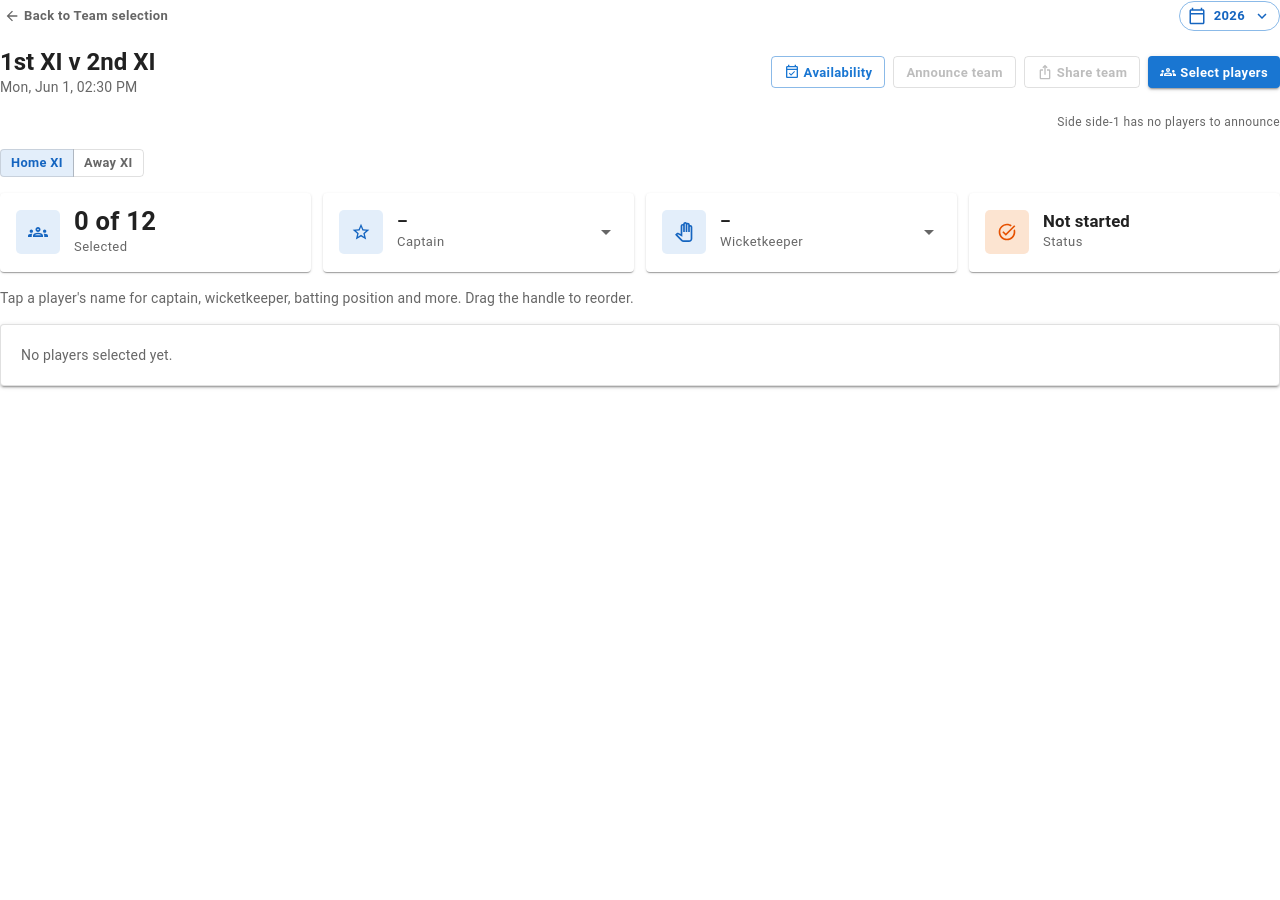
Test case: SelectTeamPage › From previous match (Select players dialog) › shows only the players of the chosen match, in its batting order, from the whole-section pool
Expected: the heading "1st XI v 2nd XI" is shown, top-left (0, 48), bottom-right (156, 77)
Click the button "Select players".
click(1214, 72)  # box top-left (1148, 56), bottom-right (1279, 88)
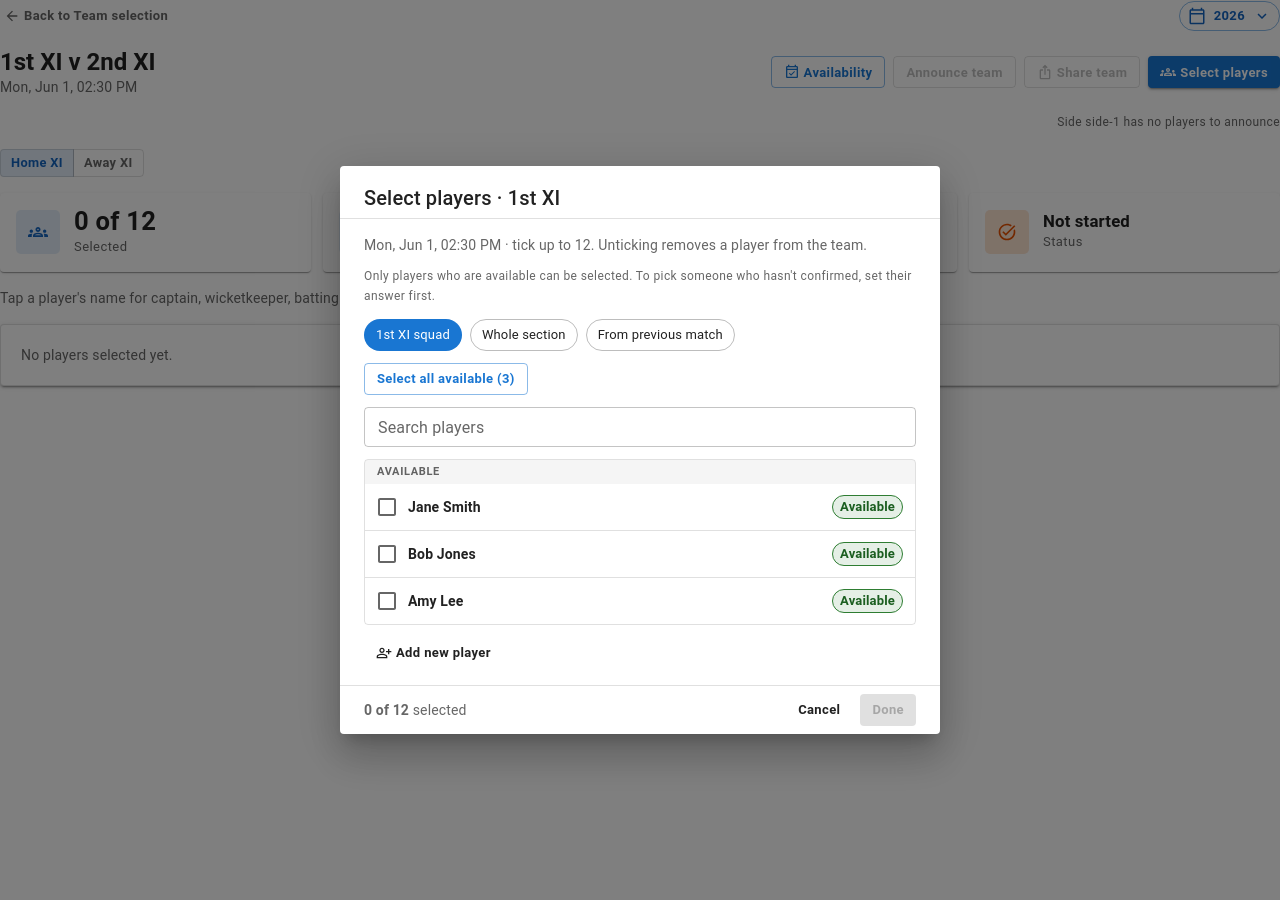
Click the button "From previous match".
click(660, 335)  # box top-left (586, 319), bottom-right (735, 351)
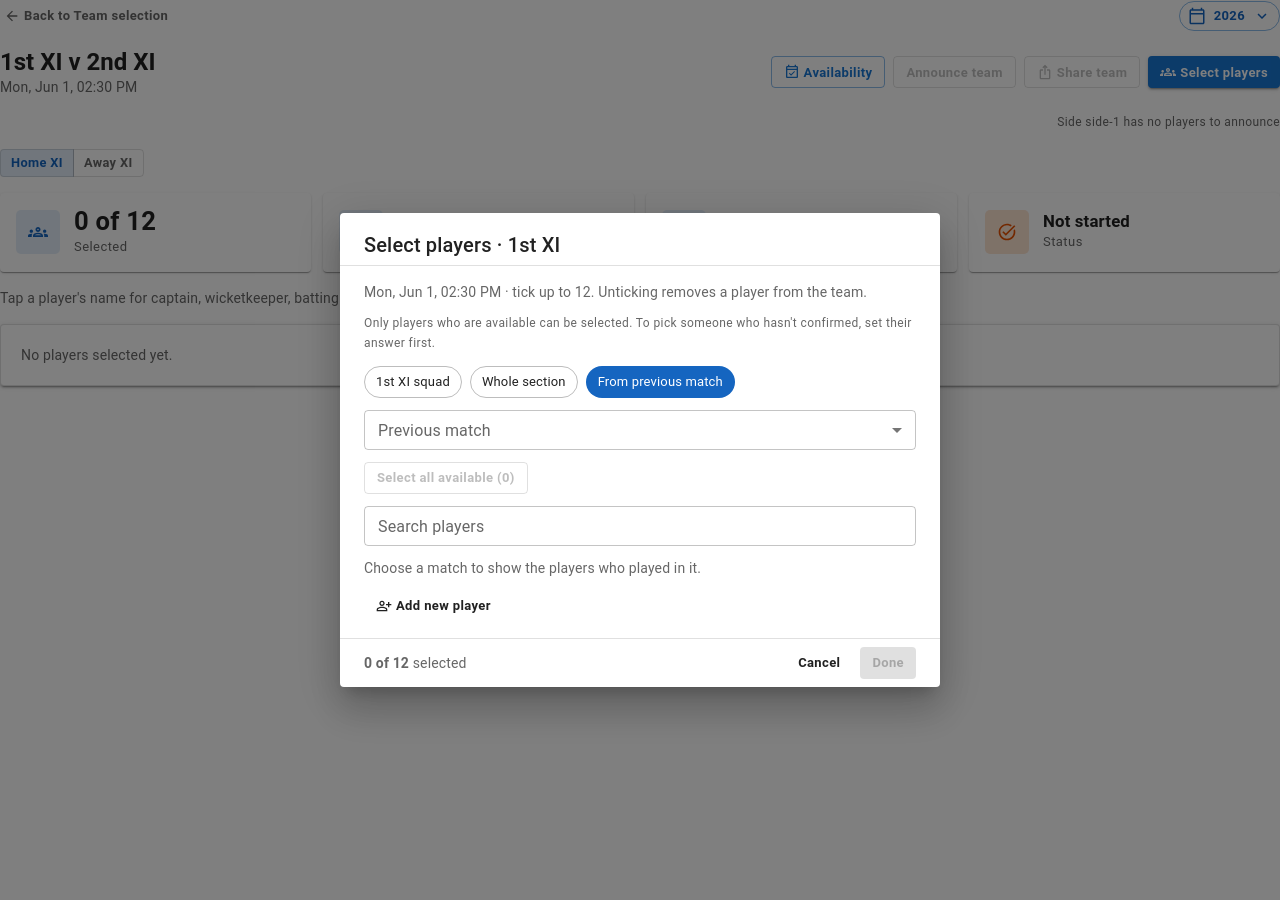
Expected: the text "Choose a match to show the players who played in it." is shown, top-left (364, 560), bottom-right (701, 576)
Click the dropdown named "Previous match".
click(640, 430)  # box top-left (364, 410), bottom-right (916, 450)
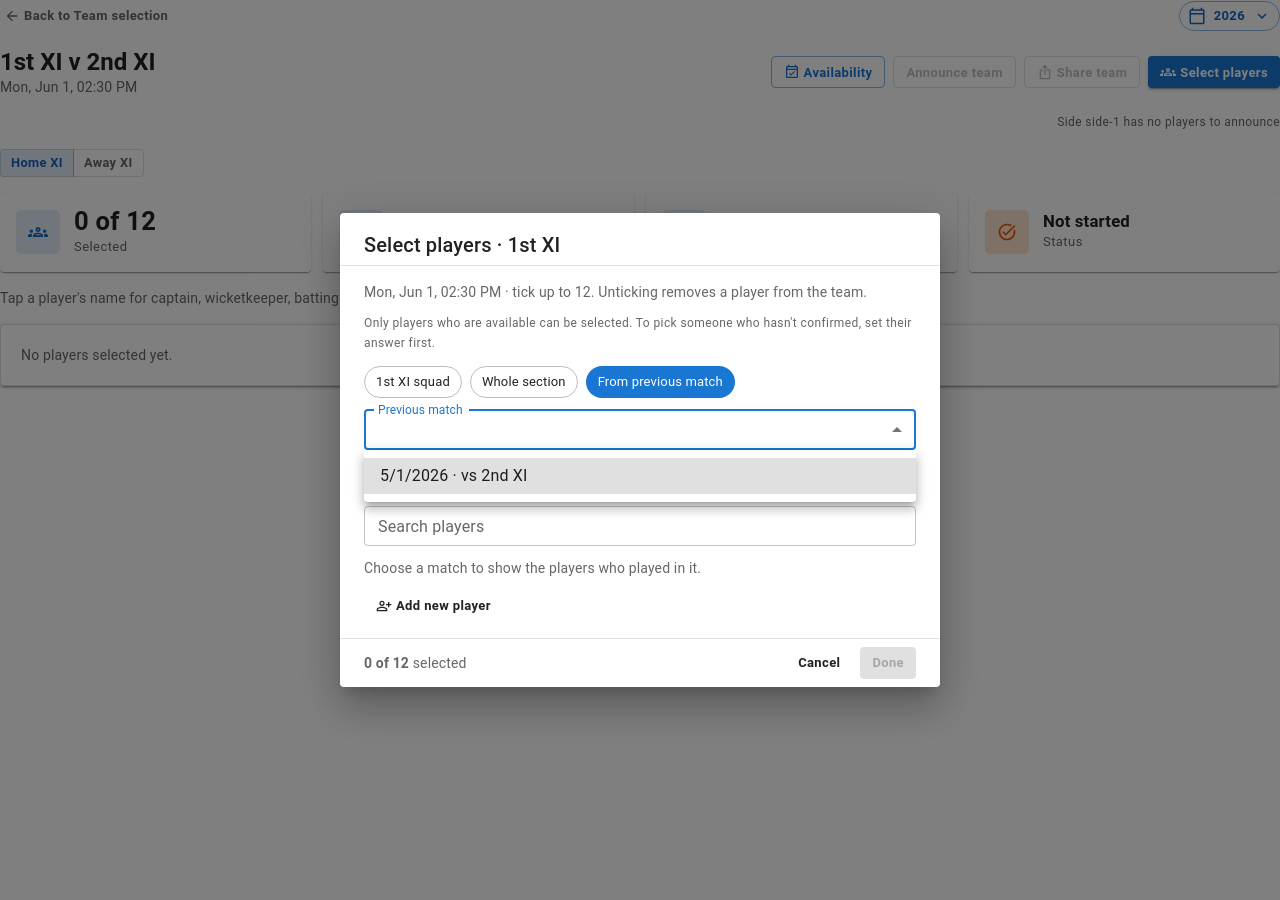
Click the option "5/1/2026 · vs 2nd XI".
click(454, 476)  # box top-left (364, 458), bottom-right (916, 494)
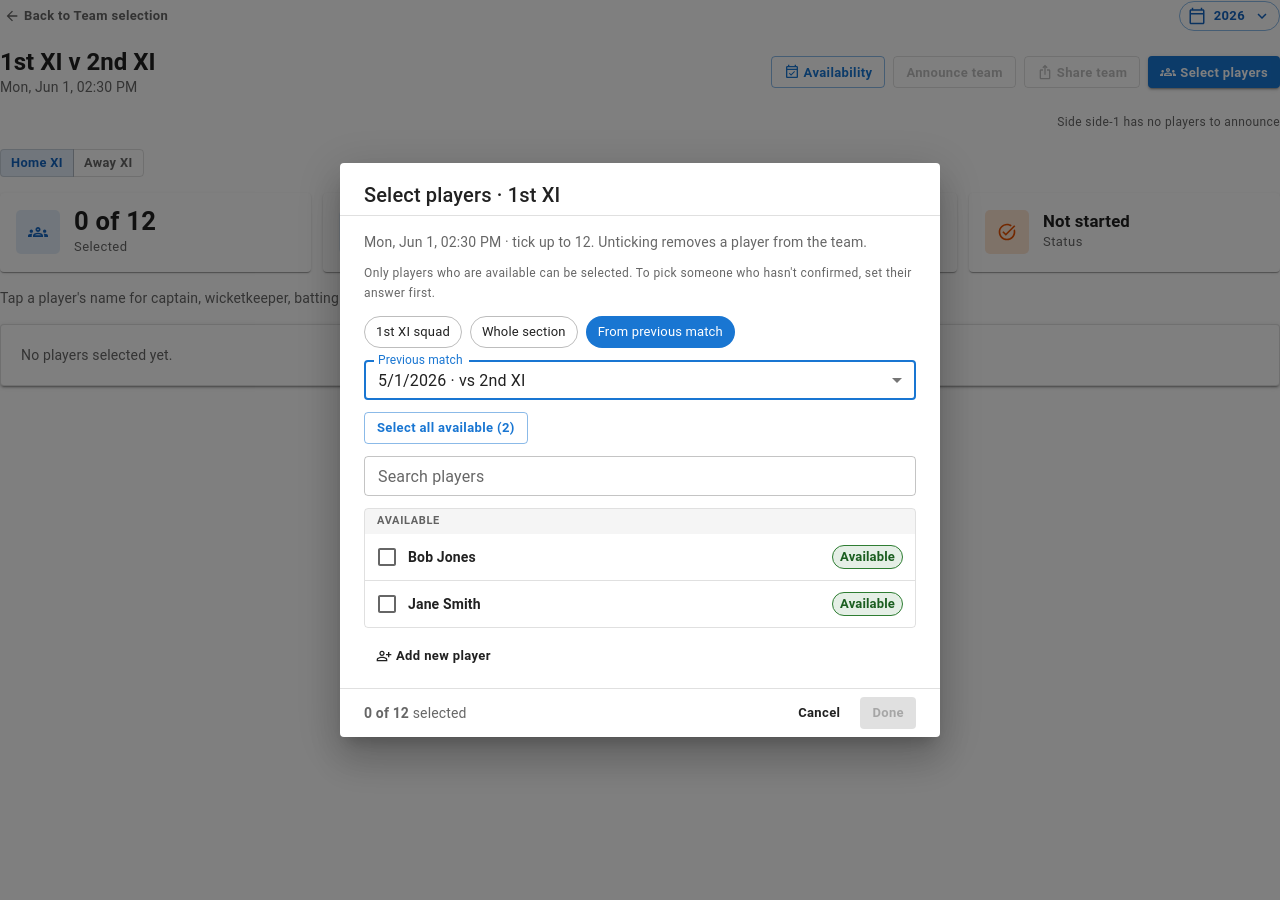
Expected: the text "Amy Lee" is not shown
Expected: the text "Bob Jones" is shown, top-left (408, 547), bottom-right (476, 567)
